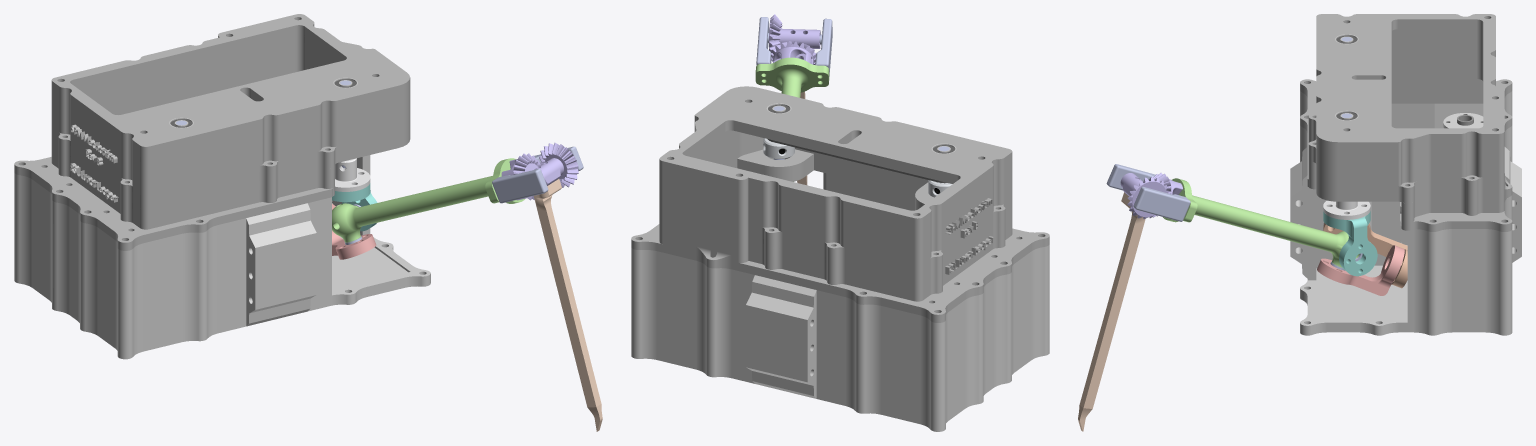
3 renders of one model, left to right at view 1: azimuth 30°, elevation 25°; view 2: azimuth 150°, elevation 25°; view 3: azimuth 270°, elevation 25°, orthographic. The views are drawn at different scales.
Parts seen in each view (by area): view 1: PRT - Base-PartOne - LuLe-1, PRT-BasePartThree-LuLe-1, PRT - BasePartFour-1, PRT - Base-PartTwo - LuLe-1, PRT - LinkEE - LuLe-2, PRT - OutputLeg - LuLe-2, PRT - BevelGear - LuLe-3, PRT - Support Bracket Knee2 - LuLe-5, 5mm Flange Coupling Connector.step-3/eBom-FreeParts.step-1, PRT - LinkZ - LuLe-2, PRT - LinkY - LuLe-4, PRT - BevelGear - LuLe-4; view 2: PRT - Base-PartOne - LuLe-1, PRT-BasePartThree-LuLe-1, PRT - BasePartFour-1, PRT - Base-PartTwo - LuLe-1, PRT - LinkEE - LuLe-2, PRT - BevelGear - LuLe-3, PRT - BevelGear - LuLe-4, PRT - Support Bracket Knee2 - LuLe-5, PRT - Support Bracket Knee2 - LuLe-4, GT2_16T-3, PRT - 200mm Belt GT2 6mm - LuLe-1; view 3: PRT - Base-PartOne - LuLe-1, PRT - BasePartFour-1, PRT-BasePartThree-LuLe-1, PRT - Base-PartTwo - LuLe-1, PRT - LinkEE - LuLe-2, PRT - OutputLeg - LuLe-2, PRT - LinkY - LuLe-4, PRT - LinkZ - LuLe-2, PRT - Support Bracket Knee2 - LuLe-4, XL430-5, PRT - LinkX - LuLe-2, PRT - BevelGear - LuLe-3 (+2 smaller).
Part boxes in pixels (x1,y1,x2,y2): PRT - Base-PartOne - LuLe-1: (14,155,430,359); PRT-BasePartThree-LuLe-1: (51,35,410,209); PRT - BasePartFour-1: (51,14,410,156); PRT - Base-PartTwo - LuLe-1: (14,143,334,250); PRT - LinkEE - LuLe-2: (332,158,524,242); PRT - OutputLeg - LuLe-2: (533,179,602,431); PRT - BevelGear - LuLe-3: (534,142,578,187); PRT - Support Bracket Knee2 - LuLe-5: (492,169,548,203); 5mm Flange Coupling Connector.step-3/eBom-FreeParts.step-1: (335,158,370,191); PRT - LinkZ - LuLe-2: (332,204,376,259); PRT - LinkY - LuLe-4: (332,183,377,231); PRT - BevelGear - LuLe-4: (501,153,540,200); PRT - Base-PartOne - LuLe-1: (631,245,1049,431); PRT-BasePartThree-LuLe-1: (659,126,1012,281); PRT - BasePartFour-1: (659,86,1012,228); PRT - Base-PartTwo - LuLe-1: (631,172,1049,322); PRT - LinkEE - LuLe-2: (755,57,829,181); PRT - BevelGear - LuLe-3: (769,14,820,57); PRT - BevelGear - LuLe-4: (771,41,816,64); PRT - Support Bracket Knee2 - LuLe-5: (815,18,832,76); PRT - Support Bracket Knee2 - LuLe-4: (756,17,771,65); GT2_16T-3: (763,138,794,158); PRT - 200mm Belt GT2 6mm - LuLe-1: (767,139,946,182); PRT - Base-PartOne - LuLe-1: (1290,91,1521,335); PRT - BasePartFour-1: (1316,14,1504,151); PRT-BasePartThree-LuLe-1: (1308,29,1504,203); PRT - Base-PartTwo - LuLe-1: (1300,79,1512,231); PRT - LinkEE - LuLe-2: (1163,178,1359,267); PRT - OutputLeg - LuLe-2: (1078,192,1145,431); PRT - LinkY - LuLe-4: (1323,211,1377,276); PRT - LinkZ - LuLe-2: (1317,245,1404,295); PRT - Support Bracket Knee2 - LuLe-4: (1133,186,1190,221); XL430-5: (1434,103,1483,128); PRT - LinkX - LuLe-2: (1323,223,1407,288); PRT - BevelGear - LuLe-3: (1120,173,1168,219).
Size of the model in its own units: 0.1923 by 0.1343 by 0.206.
